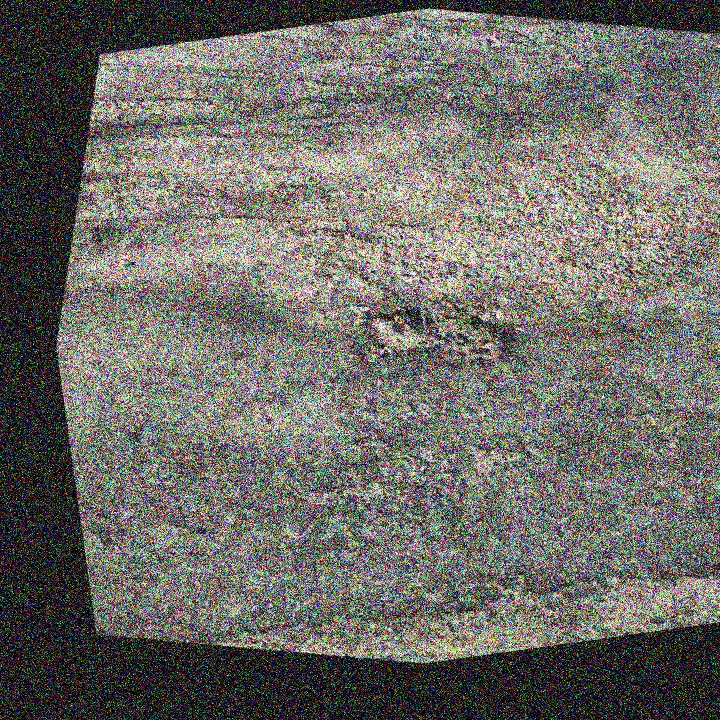pothole: (159, 437, 720, 697), (347, 278, 524, 390)
